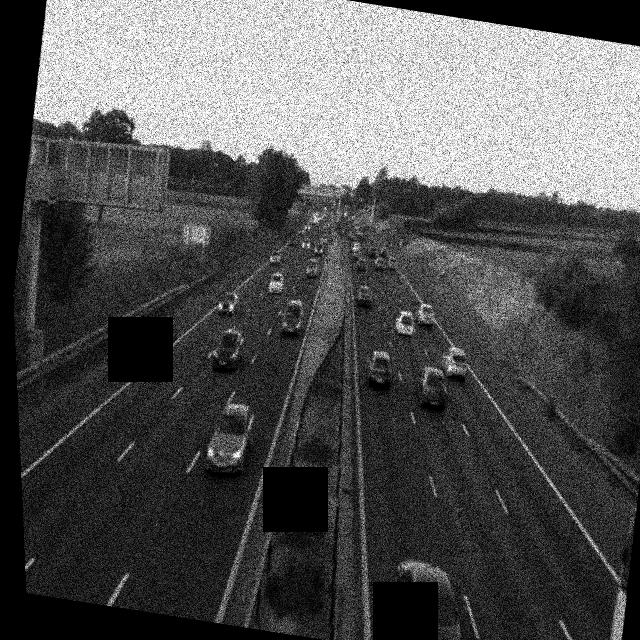car: (384, 558, 475, 640), (202, 398, 260, 478), (412, 363, 452, 411), (209, 325, 248, 373), (364, 349, 397, 389), (438, 344, 471, 382), (279, 298, 307, 336), (393, 308, 418, 338), (414, 300, 437, 328), (216, 290, 240, 316), (267, 270, 288, 296), (356, 282, 375, 308), (304, 258, 320, 278), (355, 254, 369, 272), (373, 255, 387, 272), (384, 256, 398, 272), (315, 240, 327, 257), (269, 249, 282, 264), (300, 236, 312, 249), (351, 242, 361, 257), (288, 234, 300, 246)
truck: (598, 507, 640, 640)
